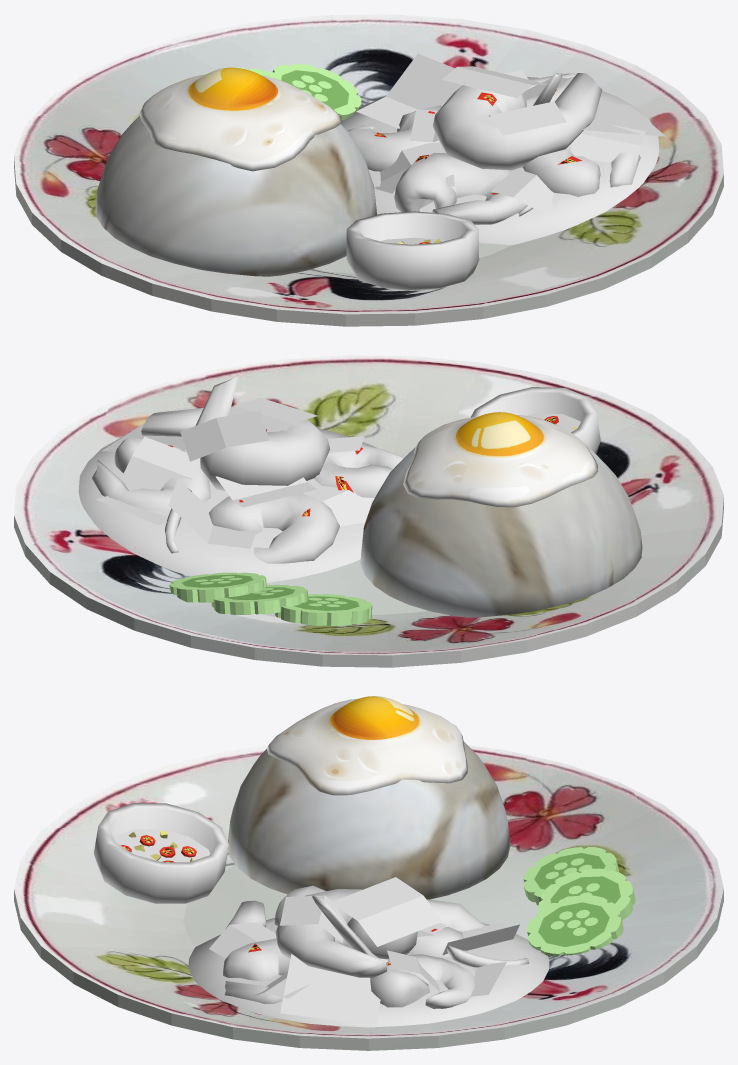
File: PadKaprow.fbx
3 renders of one model, top to bottom at view 1: azimuth 30°, elevation 25°; view 2: azimuth 150°, elevation 25°; view 3: azimuth 270°, elevation 25°, orthographic.
Parts seen in each view (by area): view 1: Cylinder.011, Sphere, Circle, Cylinder.001, Cube.004, Cylinder, Cube.006, Plane.019, Plane.003, Cube.005, Cube.009, Cube.001 (+4 smaller); view 2: Cylinder.011, Sphere, Circle, Cylinder, Cube.004, Plane.019, Cube.001, Cylinder.001, Cube.003, Cube.006, Cube.007, Cube.009 (+7 smaller); view 3: Cylinder.011, Sphere, Circle, Cylinder.001, Cylinder, Plane.019, Cube.004, Plane.006, Cube.009, Cube.003, Cube.005, Cube.008 (+9 smaller).
Boxes of the visible parts, x1,y1,x2,y2 form: Cylinder.011: [14, 14, 723, 326]; Sphere: [95, 116, 376, 276]; Circle: [139, 67, 341, 171]; Cylinder.001: [346, 211, 479, 290]; Cube.004: [433, 73, 602, 170]; Cylinder: [341, 77, 659, 245]; Cube.006: [394, 152, 527, 224]; Plane.019: [409, 66, 645, 163]; Plane.003: [356, 53, 462, 128]; Cube.005: [523, 142, 640, 196]; Cube.009: [268, 63, 361, 120]; Cube.001: [348, 105, 442, 171]; Cylinder.011: [14, 355, 723, 667]; Sphere: [360, 447, 642, 617]; Circle: [403, 412, 598, 507]; Cylinder: [78, 428, 377, 582]; Cube.004: [141, 406, 329, 490]; Plane.019: [120, 411, 317, 507]; Cube.001: [209, 493, 339, 563]; Cylinder.001: [470, 387, 600, 453]; Cube.003: [92, 437, 210, 510]; Cube.006: [313, 444, 403, 497]; Cube.007: [275, 594, 372, 625]; Cube.009: [169, 572, 266, 602]; Cylinder.011: [14, 745, 723, 1050]; Sphere: [228, 741, 510, 899]; Circle: [266, 696, 467, 795]; Cylinder.001: [94, 803, 228, 903]; Cylinder: [188, 918, 549, 1027]; Plane.019: [253, 877, 446, 998]; Cube.004: [275, 889, 417, 977]; Plane.006: [280, 953, 387, 1025]; Cube.009: [527, 895, 623, 956]; Cube.003: [370, 954, 475, 1008]; Cube.005: [223, 938, 290, 1003]; Cube.008: [538, 868, 635, 919].
Size of the model in its own units: 502 by 144 by 502.
